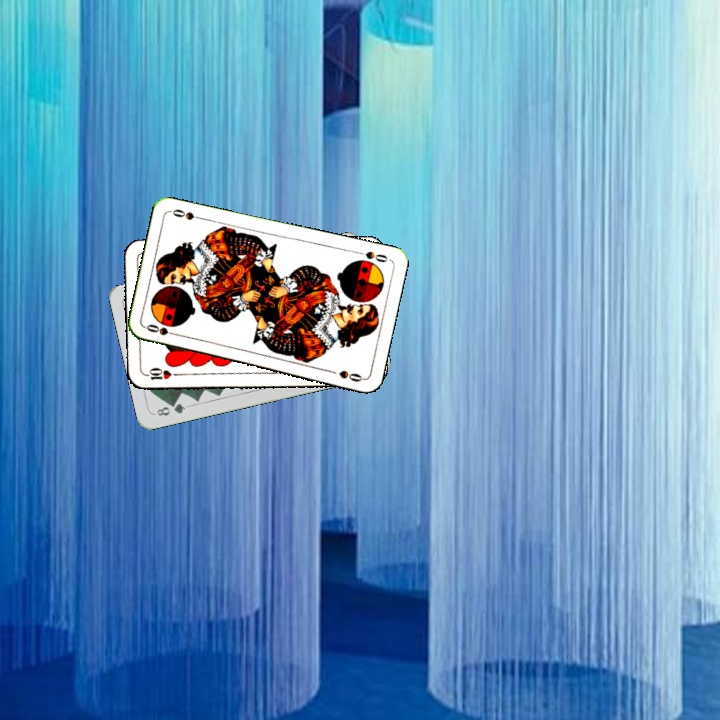G8: (151, 399, 188, 418)
H10: (142, 364, 182, 383)
SO: (142, 320, 182, 339), (352, 247, 392, 265)
